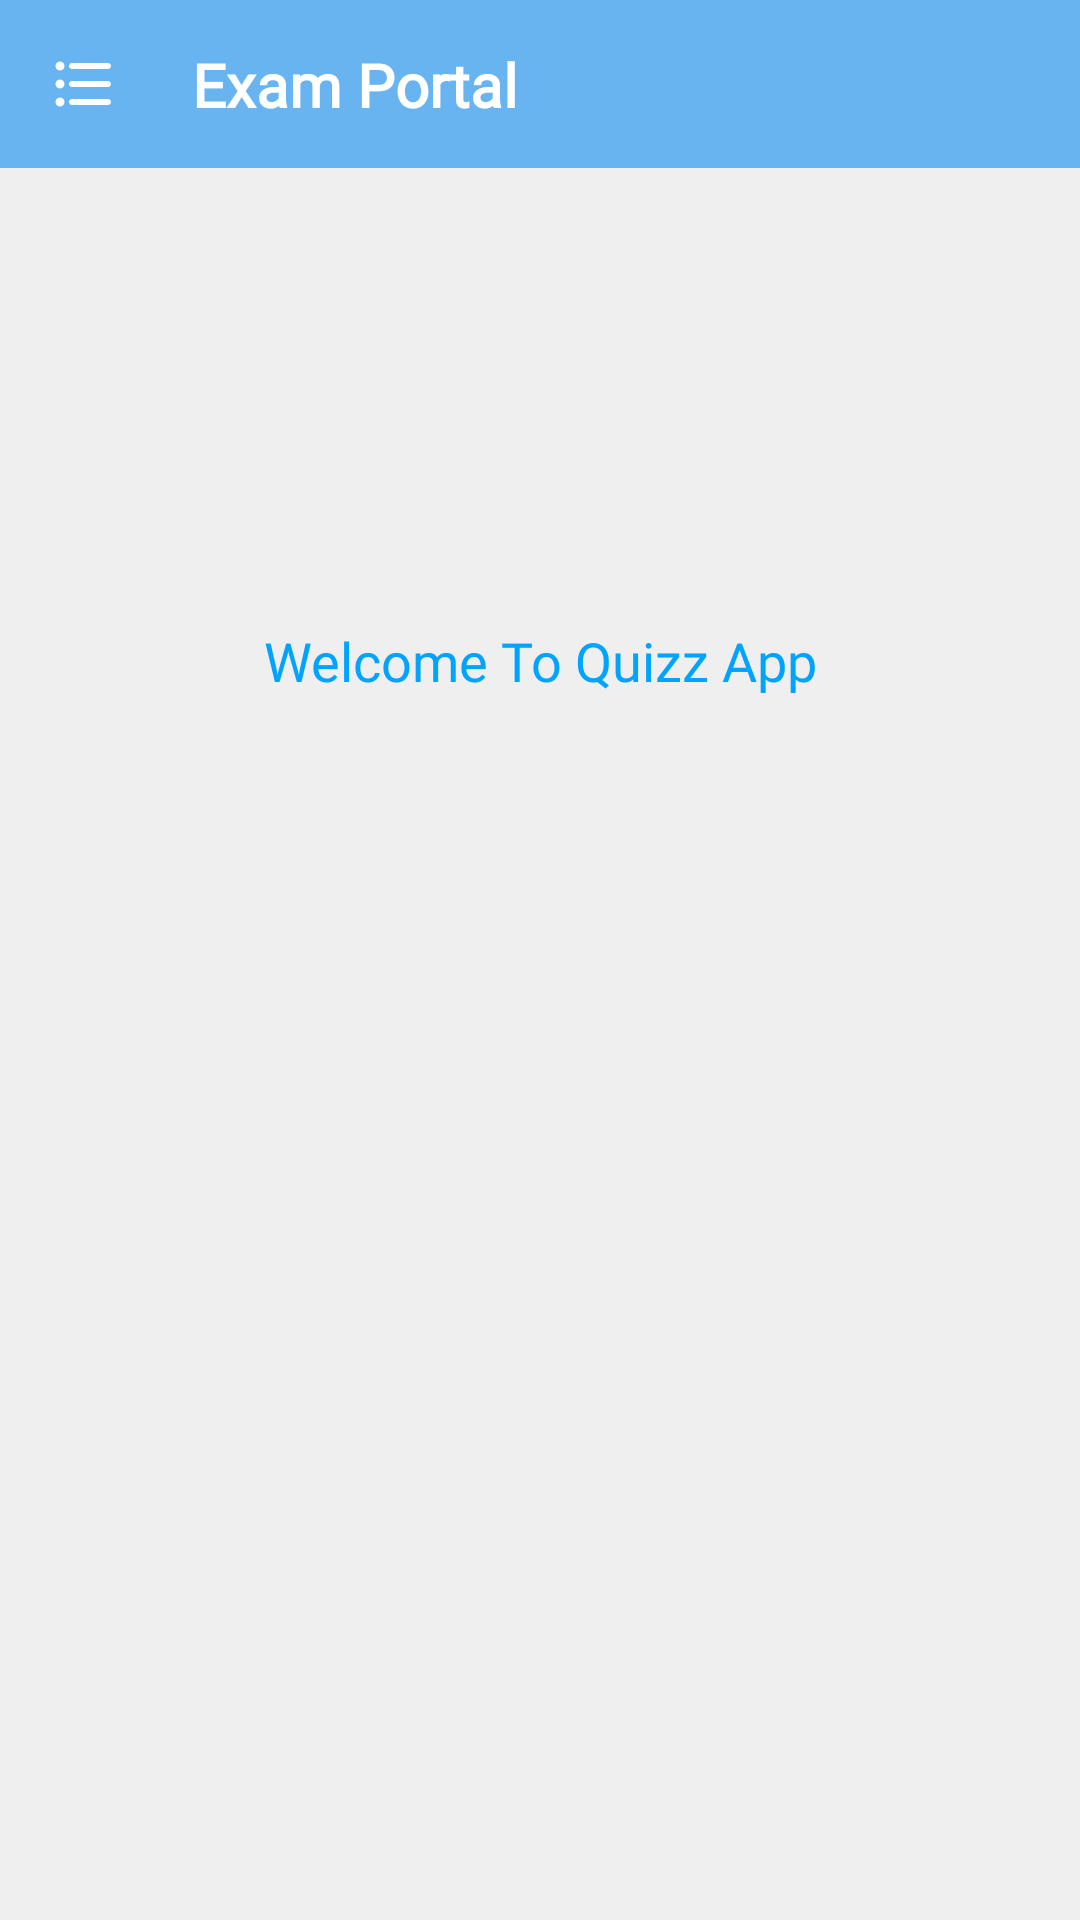

Icon bounding boxes for this 1080 × 1920 phone screenshot, format [x1,y1,x2,y2]:
format list bulleted: [55,61,111,107]
